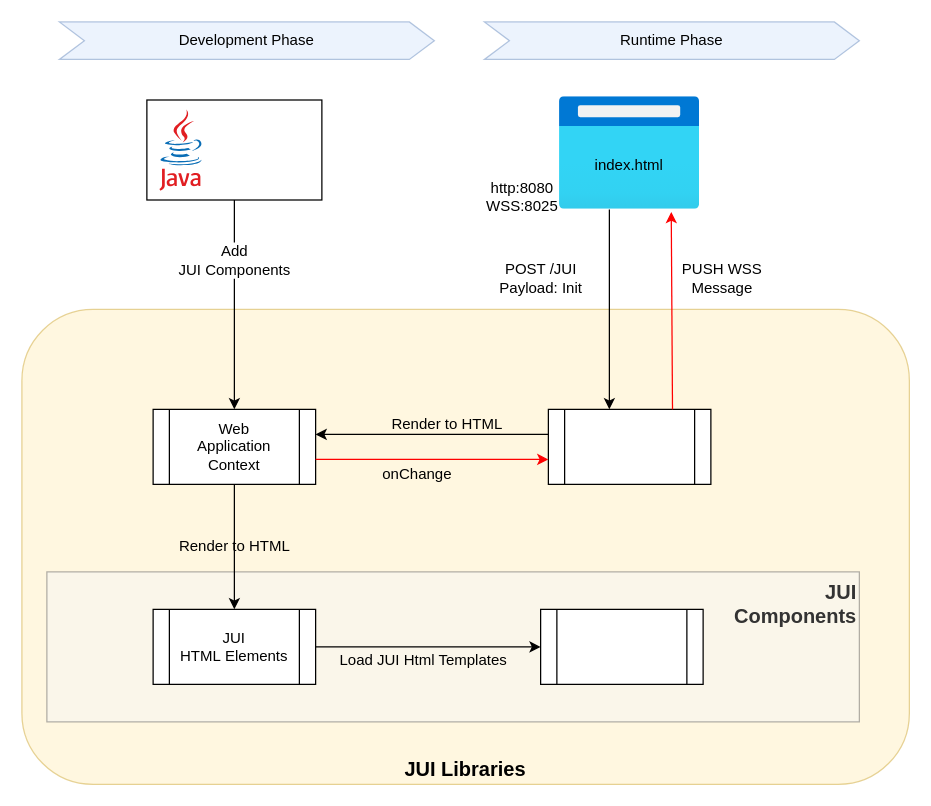
The diagram is 931 pixels wide and 806 high, and some of its shapes have lost their labels. Each missing label, with the box of its shape:
Application: (146, 99, 322, 200)
http/https/wss Server: (547, 408, 711, 484)
JUI HTML Templates: (539, 608, 703, 684)
